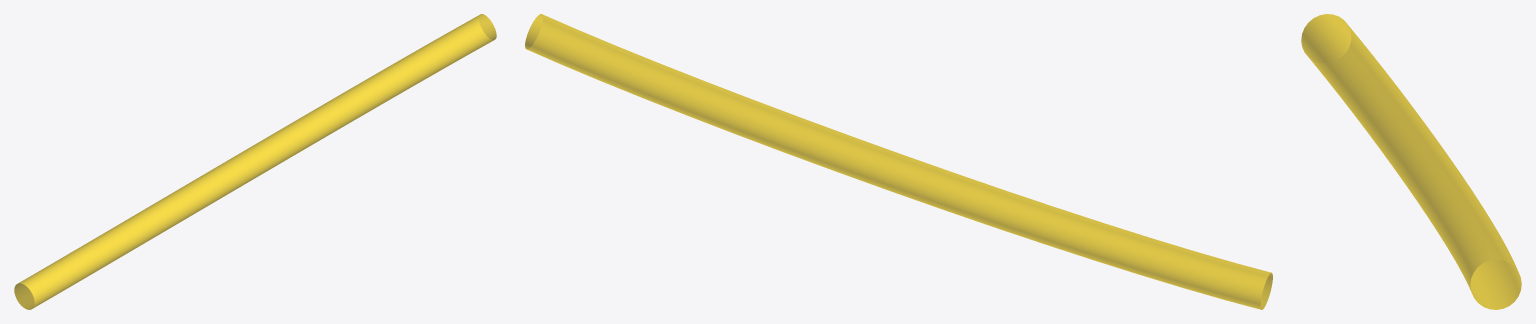
File: Event_84804159_track_71.fbx
The picture shows the model from 3 angles, left to right: view 1: azimuth 30°, elevation 25°; view 2: azimuth 150°, elevation 25°; view 3: azimuth 270°, elevation 25°; orthographic projection. The views are drawn at different scales.
Visible parts, largest first — view 1: Model; view 2: Model; view 3: Model.
Part boxes in pixels (box(x1,y1,x2,y2)): Model: box(14, 14, 496, 309); Model: box(525, 14, 1272, 309); Model: box(1301, 14, 1521, 309).
Bounding box in the file's own units: 0.8117 × 0.2026 × 0.171.
